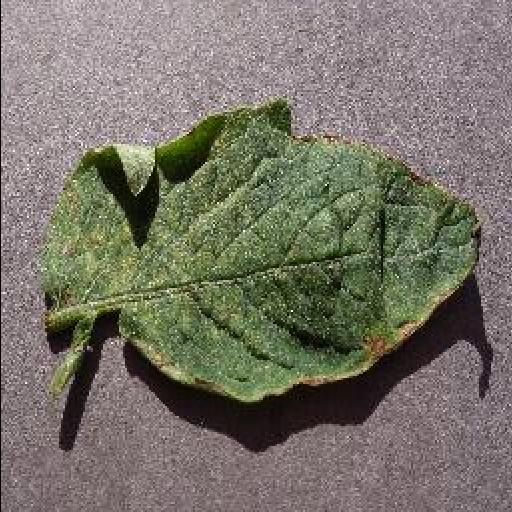disease_tomato: (42, 97, 482, 403)
